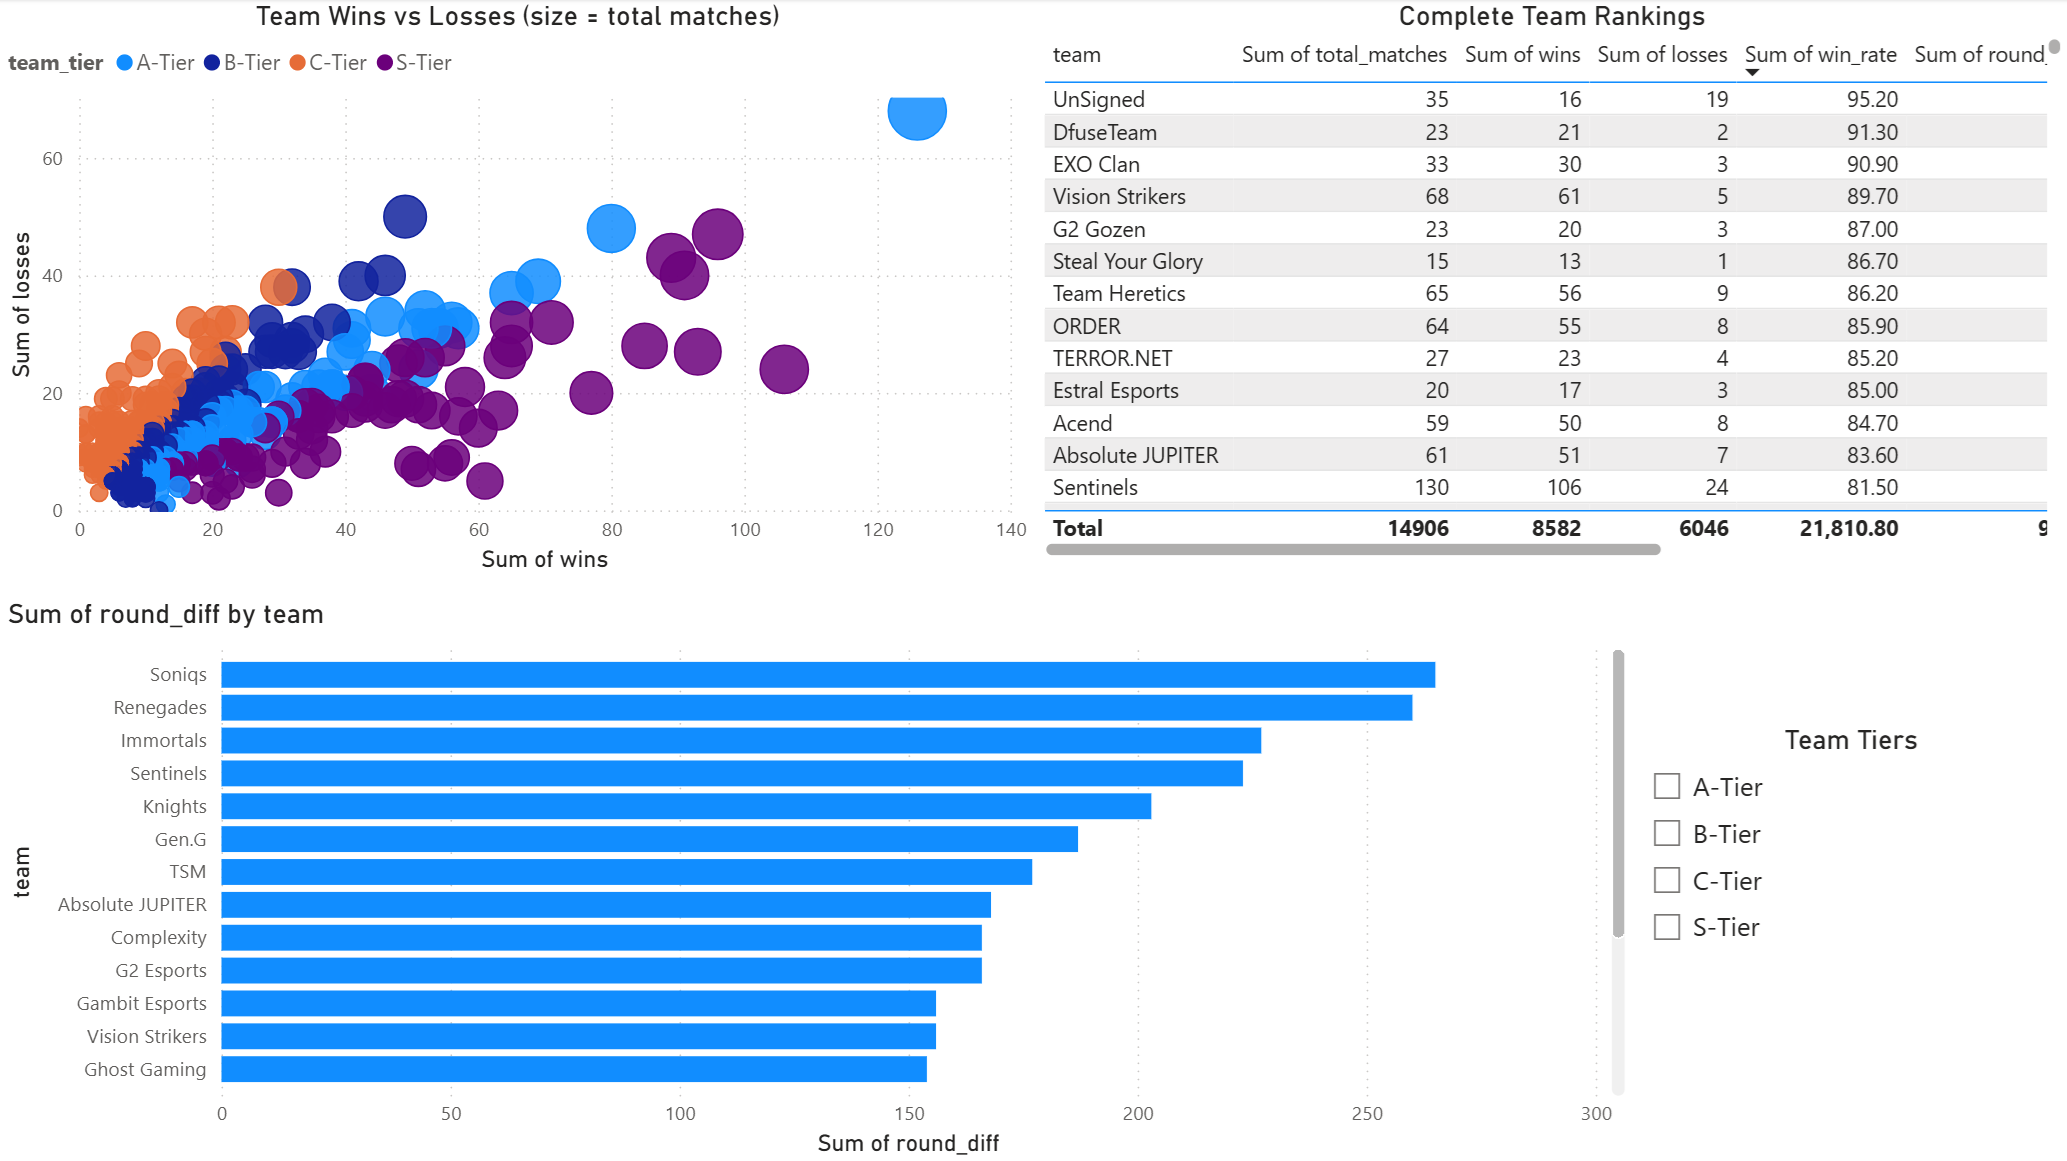

This screenshot's page, from the dashboard's own definition file:
{"tool":"powerbi","page":{"name":"Team Analysis","canvas":[1280,720],"ordinal":1},"visuals":[{"type":"scatterChart","title":"Team Wins vs Losses (size = total matches)","fields":{"X":["Sum(team_rankings.wins)"],"Y":["Sum(team_rankings.losses)"],"Category":["team_rankings.team"],"Size":["Sum(team_rankings.total_matches)"],"Series":["team_rankings.team_tier"]},"box":[0,0,640,359.6],"z":0},{"type":"tableEx","title":"Complete Team Rankings","fields":{"Values":["team_rankings.team","Sum(team_rankings.total_matches)","Sum(team_rankings.wins)","Sum(team_rankings.losses)","Sum(team_rankings.win_rate)","Sum(team_rankings.round_diff)","Sum(team_rankings.tournaments)","team_rankings.team_tier","Sum(team_rankings.recent_form_wins)"]},"box":[640,0,640,350.4],"z":1000},{"type":"barChart","fields":{"Category":["team_rankings.team"],"Y":["Sum(team_rankings.round_diff)"]},"box":[0,370,1010,350.4],"z":2000},{"type":"slicer","title":"Team Tiers","fields":{"Values":["team_rankings.team_tier"]},"box":[1010,448.1,270,164.3],"z":3000}]}

Visuals, with their boxes in screenshot pixels (x1, y1, x2, y2), scaled from the page's 1280x720 canvas onto the 2067x1161 screenshot:
"Team Wins vs Losses (size = total matches)" scatterChart: locate(0, 0, 1034, 580)
"Complete Team Rankings" tableEx: locate(1034, 0, 2066, 565)
barChart - team_rankings.team x Sum(team_rankings.round_diff): locate(0, 597, 1631, 1160)
"Team Tiers" slicer: locate(1631, 723, 2066, 987)
